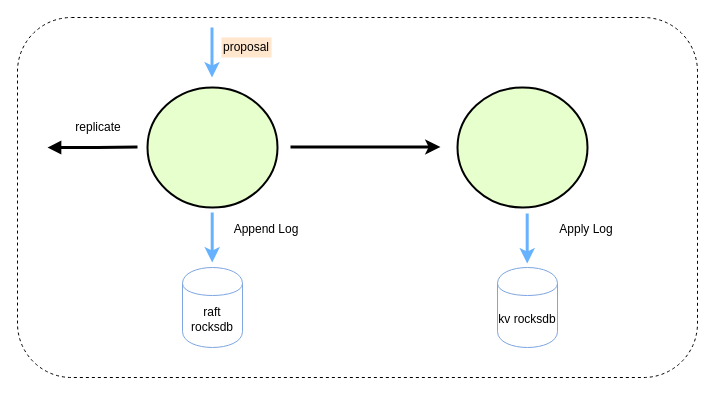
Some shapes in this 715 by 395 pixel diagram are drawn without their labels. The centre of each missing label's shape, as x and y in pixels:
"ApplyBatchSystem" belongs at point (522, 147).
"RaftBatchSystem" belongs at point (212, 147).
